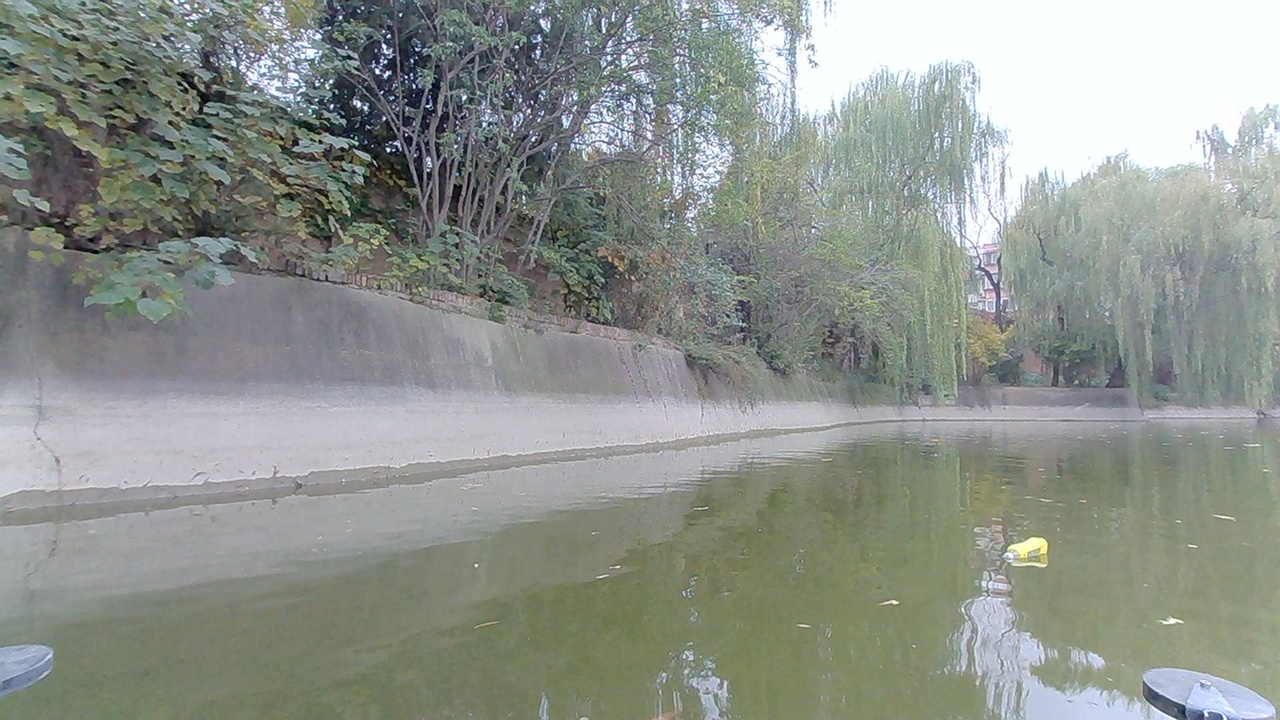bottle: (1013, 538, 1047, 561)
